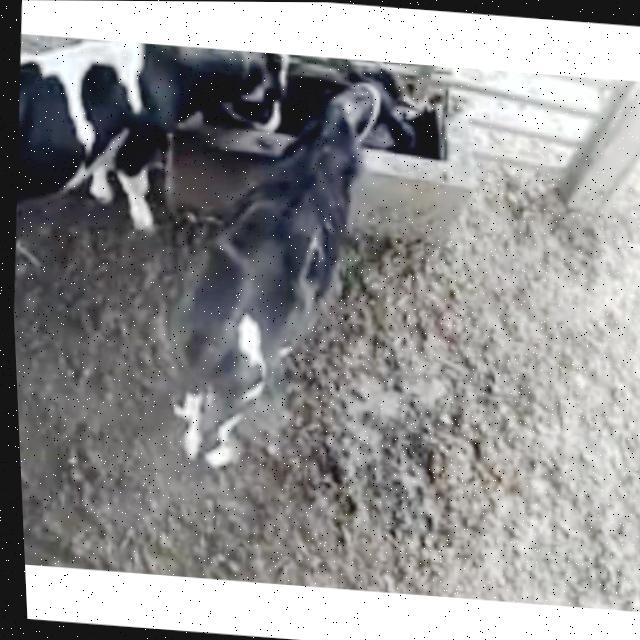drink: (292, 54, 461, 191), (146, 43, 303, 154)
